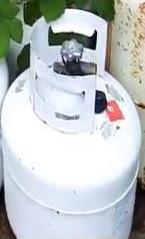cylinder: (1, 1, 145, 239)
